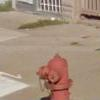Hydrant: (33, 44, 85, 100)
